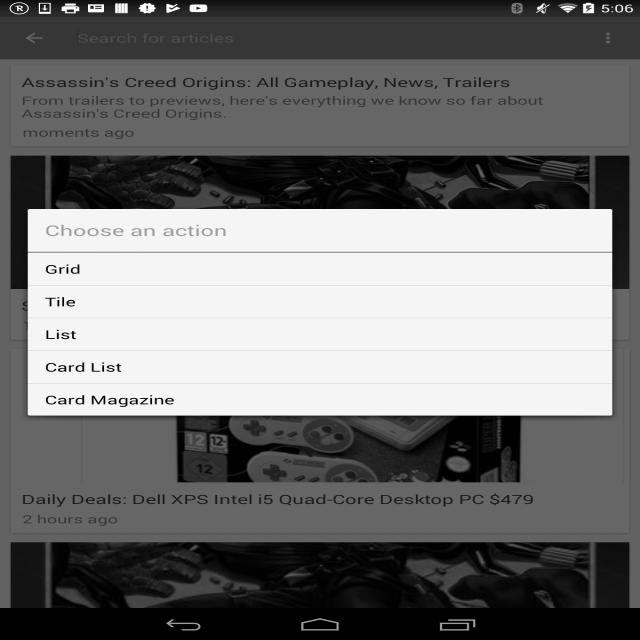ImageButton: (16, 27, 54, 49), (588, 27, 622, 50)
ImageView: (17, 541, 626, 608), (39, 154, 589, 209), (176, 417, 520, 484)
TextView: (12, 72, 562, 124), (16, 488, 540, 508), (36, 220, 238, 245), (65, 27, 247, 52), (38, 388, 188, 409), (35, 356, 141, 374), (38, 256, 90, 280)
